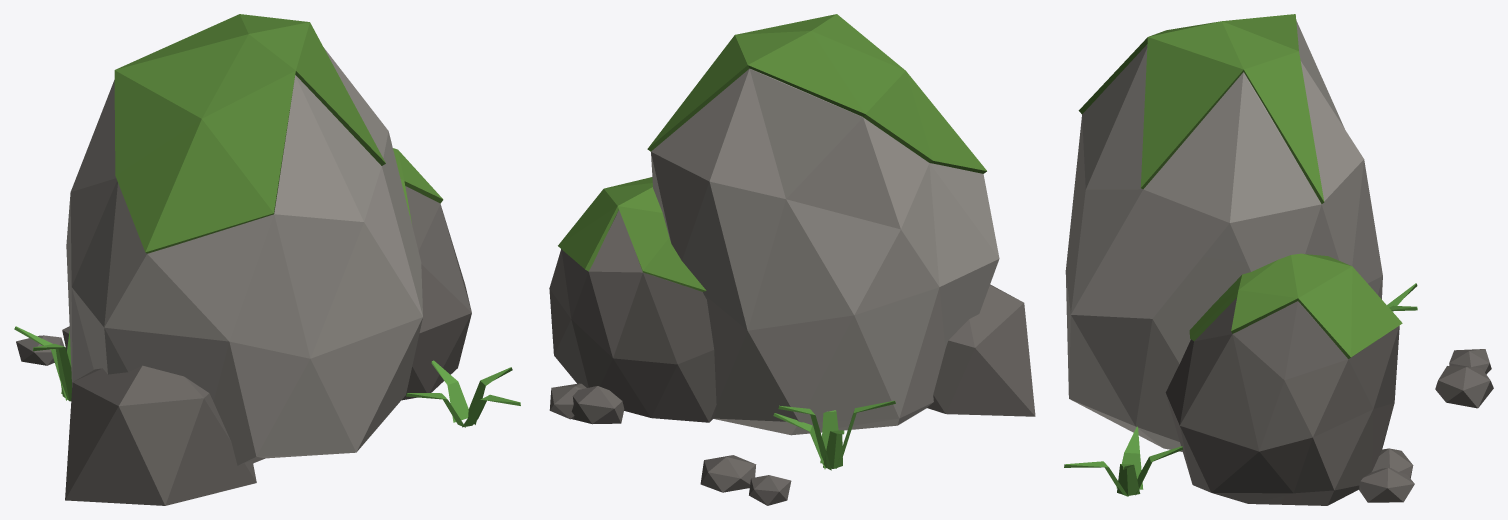
The model's file is quarry-rock-a.glb.
3 renders of one model, left to right at view 1: azimuth 30°, elevation 25°; view 2: azimuth 150°, elevation 25°; view 3: azimuth 270°, elevation 25°, orthographic. The views are drawn at different scales.
Parts seen in each view (by area): view 1: QuarryRockA_Stone, QuarryRockA_Moss, QuarryRockA_StoneDark, QuarryRockA_Grass; view 2: QuarryRockA_Stone, QuarryRockA_StoneDark, QuarryRockA_Moss, QuarryRockA_Grass; view 3: QuarryRockA_Stone, QuarryRockA_StoneDark, QuarryRockA_Moss, QuarryRockA_Grass.
Part boxes in pixels (bbox=[...]): QuarryRockA_Stone: bbox=[66, 48, 422, 465]; QuarryRockA_Moss: bbox=[114, 14, 443, 253]; QuarryRockA_StoneDark: bbox=[16, 186, 471, 505]; QuarryRockA_Grass: bbox=[14, 326, 520, 427]; QuarryRockA_Stone: bbox=[651, 68, 999, 435]; QuarryRockA_StoneDark: bbox=[549, 210, 1035, 505]; QuarryRockA_Moss: bbox=[558, 14, 986, 291]; QuarryRockA_Grass: bbox=[773, 400, 895, 470]; QuarryRockA_Stone: bbox=[1065, 20, 1382, 451]; QuarryRockA_StoneDark: bbox=[1165, 298, 1493, 505]; QuarryRockA_Moss: bbox=[1078, 14, 1402, 358]; QuarryRockA_Grass: bbox=[1064, 283, 1417, 496].
Size of the model in its own units: 4.91 by 4.12 by 4.09.
